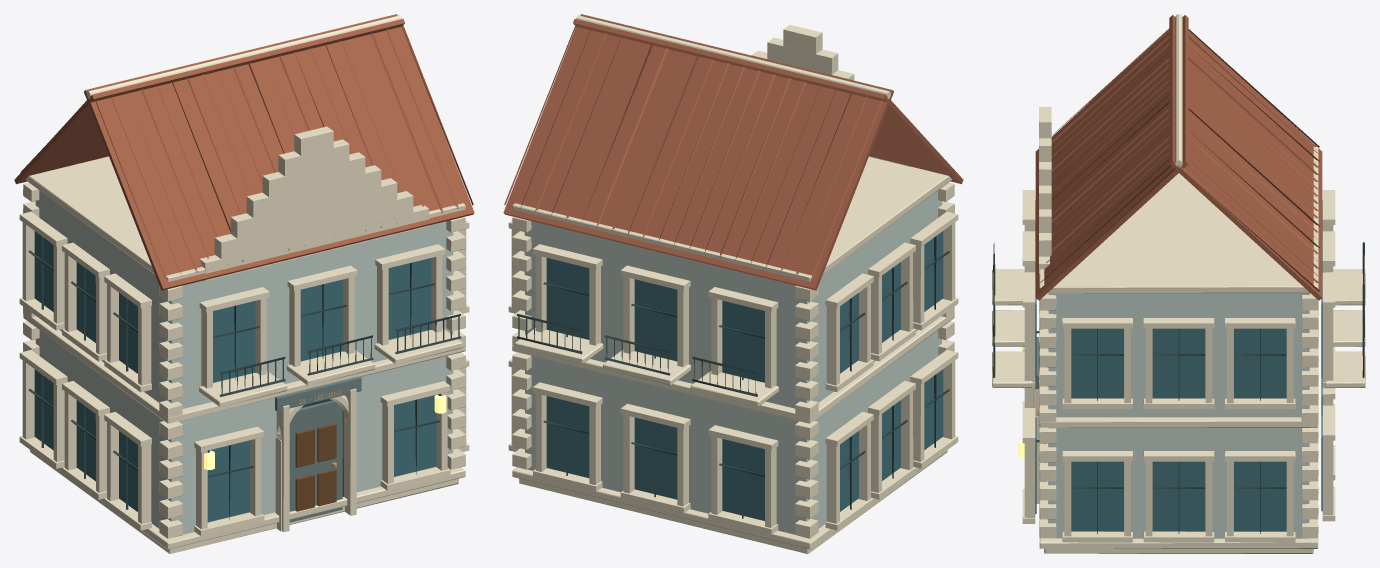
File: estonie-2-lod.glb
3 renders of one model, left to right at view 1: azimuth 30°, elevation 25°; view 2: azimuth 150°, elevation 25°; view 3: azimuth 270°, elevation 25°, orthographic. The views are drawn at different scales.
Parts seen in each view (by area): view 1: estonie-2_Dressed stone.002, estonie-2_Regional roof.002, estonie-2_Masonry plaster.002, estonie-2_Window blue.001, estonie-2_Forged midnight.001, estonie-2_Regional painted wood.002, estonie-2_Walnut.001; view 2: estonie-2_Dressed stone.002, estonie-2_Regional roof.002, estonie-2_Masonry plaster.002, estonie-2_Window blue.001, estonie-2_Forged midnight.001; view 3: estonie-2_Dressed stone.002, estonie-2_Regional roof.002, estonie-2_Masonry plaster.002, estonie-2_Window blue.001, estonie-2_Forged midnight.001.
Part boxes in pixels (left/top/right/bottom): estonie-2_Dressed stone.002: left=19, top=15, right=469, bottom=553; estonie-2_Regional roof.002: left=14, top=14, right=474, bottom=290; estonie-2_Masonry plaster.002: left=35, top=190, right=453, bottom=534; estonie-2_Window blue.001: left=34, top=231, right=436, bottom=522; estonie-2_Forged midnight.001: left=28, top=236, right=461, bottom=519; estonie-2_Regional painted wood.002: left=275, top=376, right=361, bottom=522; estonie-2_Walnut.001: left=295, top=423, right=336, bottom=511; estonie-2_Dressed stone.002: left=508, top=15, right=958, bottom=553; estonie-2_Regional roof.002: left=503, top=14, right=963, bottom=290; estonie-2_Masonry plaster.002: left=524, top=191, right=942, bottom=534; estonie-2_Window blue.001: left=546, top=231, right=943, bottom=520; estonie-2_Forged midnight.001: left=516, top=236, right=949, bottom=518; estonie-2_Dressed stone.002: left=992, top=14, right=1365, bottom=553; estonie-2_Regional roof.002: left=1035, top=15, right=1322, bottom=300; estonie-2_Masonry plaster.002: left=1048, top=293, right=1309, bottom=538; estonie-2_Window blue.001: left=1035, top=200, right=1322, bottom=531; estonie-2_Forged midnight.001: left=993, top=242, right=1364, bottom=533.
Bounding box in the file's own units: 13.93 × 16.79 × 14.25.
